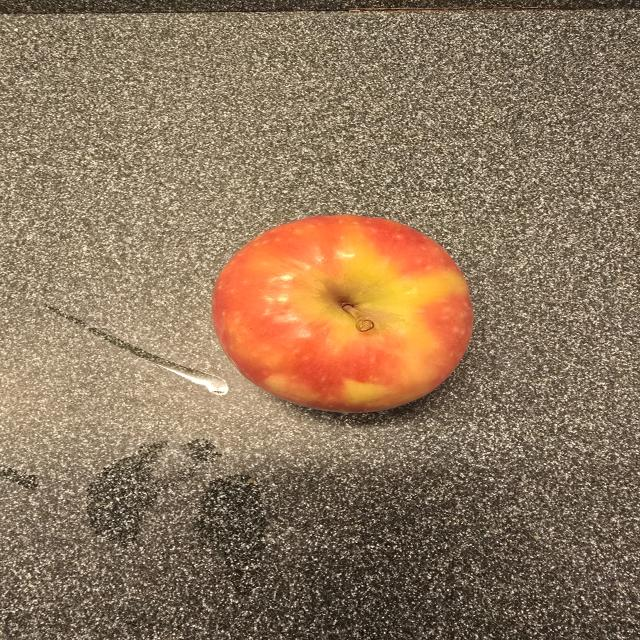Apple: (212, 215, 473, 412)
